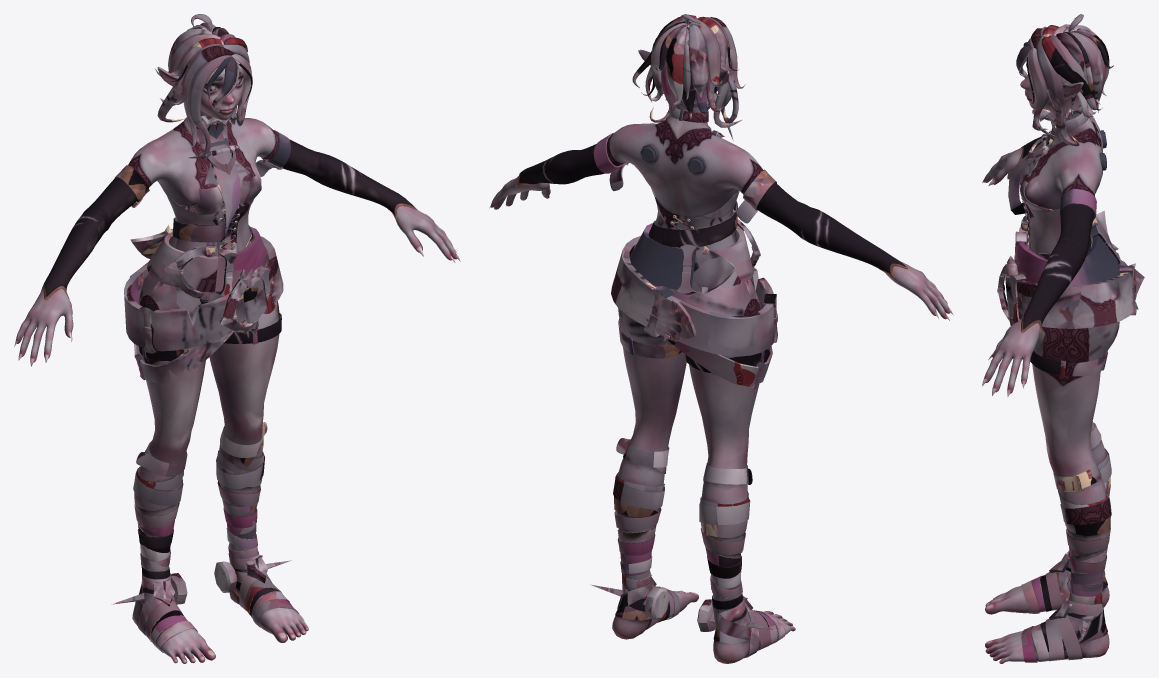
File: Briar size a pose mixamo.fbx
3 renders of one model, left to right at view 1: azimuth 30°, elevation 25°; view 2: azimuth 150°, elevation 25°; view 3: azimuth 270°, elevation 25°, orthographic. The views are drawn at different scales.
Visible parts, largest first — view 1: Briar A Pose; view 2: Briar A Pose; view 3: Briar A Pose.
Boxes of the visible parts, x1,y1,x2,y2 form: Briar A Pose: [14, 14, 460, 663]; Briar A Pose: [489, 14, 953, 663]; Briar A Pose: [982, 14, 1144, 663].
Size of the model in its own units: 6627 by 8765 by 2095.
Materials: 7 (7 with a texture image).
